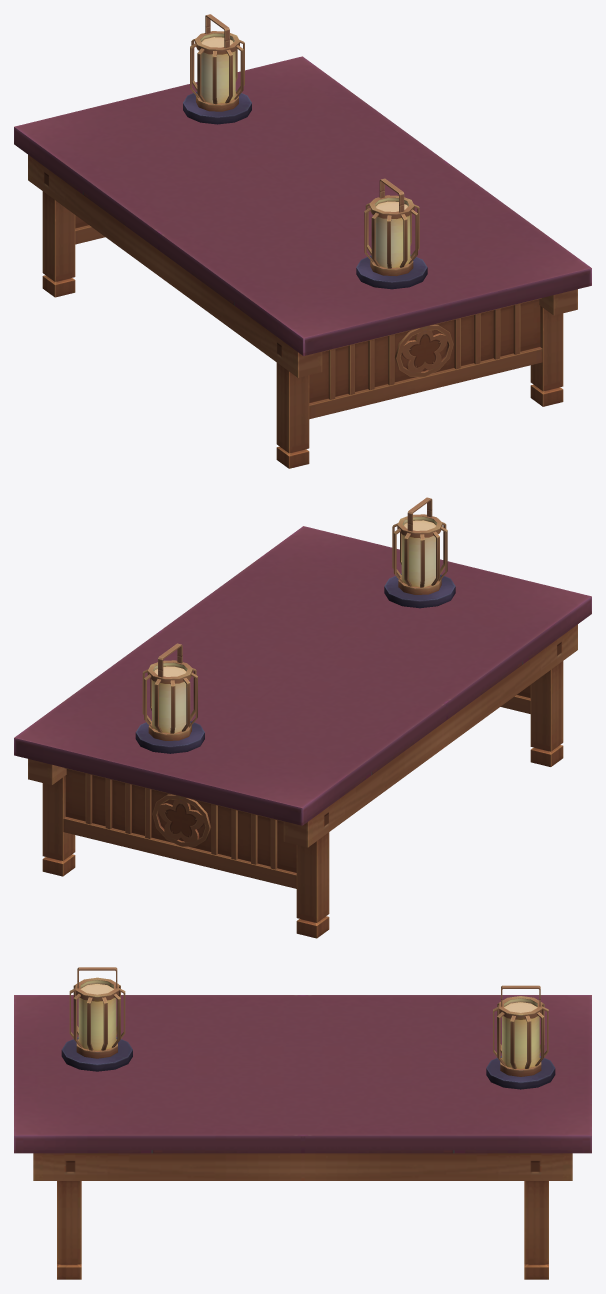
Rendered from my_hyakkiyako_01_desk_02.glb.
The picture shows the model from 3 angles, top to bottom: view 1: azimuth 30°, elevation 25°; view 2: azimuth 150°, elevation 25°; view 3: azimuth 270°, elevation 25°; orthographic projection.
Visible parts, largest first — view 1: my_hyakkiyako_01_desk_02; view 2: my_hyakkiyako_01_desk_02; view 3: my_hyakkiyako_01_desk_02.
Boxes of the visible parts, left/top/right/bottom form: my_hyakkiyako_01_desk_02: left=14, top=14, right=591, bottom=468; my_hyakkiyako_01_desk_02: left=14, top=497, right=591, bottom=938; my_hyakkiyako_01_desk_02: left=14, top=967, right=591, bottom=1279.
Bounding box in the file's own units: 0.00846 × 0.00667 × 0.0147.
2 materials, 2 textured.
